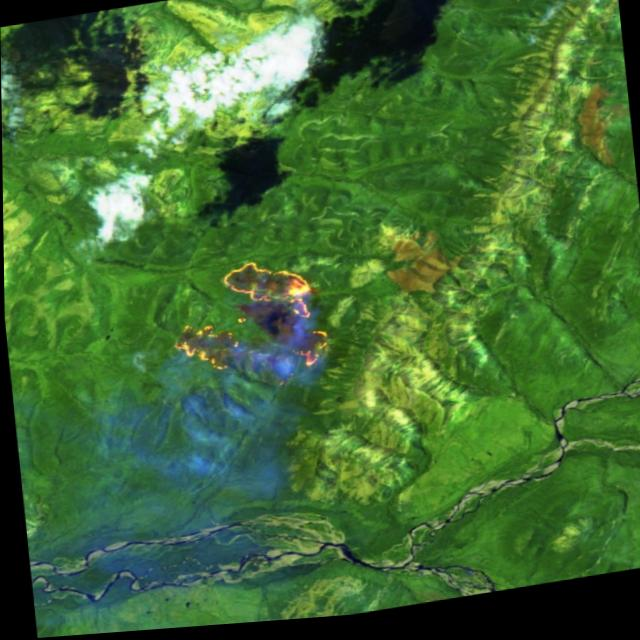fire: (168, 252, 340, 404), (254, 368, 262, 376)
